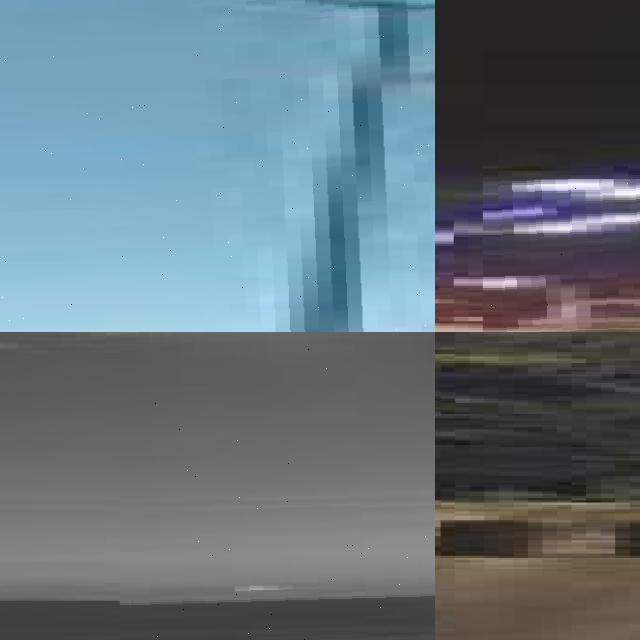street light: (0, 0, 435, 332), (119, 332, 435, 640), (483, 179, 640, 332), (134, 587, 265, 640), (381, 589, 435, 635)
